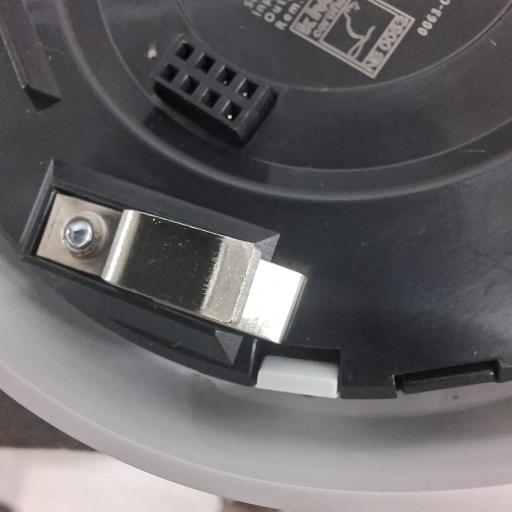yayli: (29, 188, 315, 349)
